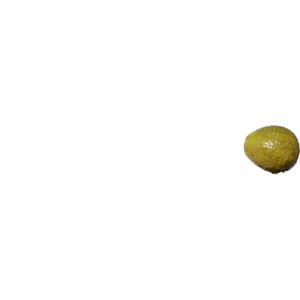goiaba: (242, 121, 298, 177)
